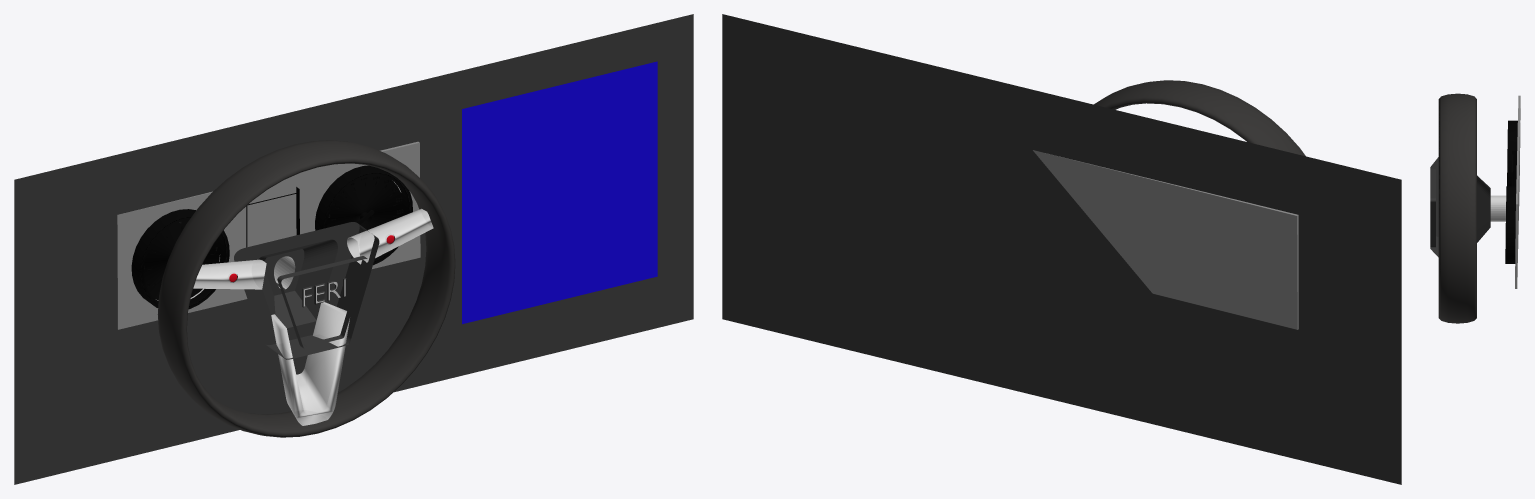
The model's file is armaturna_plosca.glb.
The picture shows the model from 3 angles, left to right: view 1: azimuth 30°, elevation 25°; view 2: azimuth 150°, elevation 25°; view 3: azimuth 270°, elevation 25°; orthographic projection. The views are drawn at different scales.
Parts seen in each view (by area): view 1: Plane.001; view 2: Plane.001; view 3: Plane.001.
Part boxes in pixels (x1=…): Plane.001: x1=14, y1=14, x2=693, y2=484; Plane.001: x1=722, y1=14, x2=1401, y2=484; Plane.001: x1=1430, y1=93, x2=1520, y2=323.
Bounding box in the file's own units: 0.8767 × 0.3764 × 0.1369.
